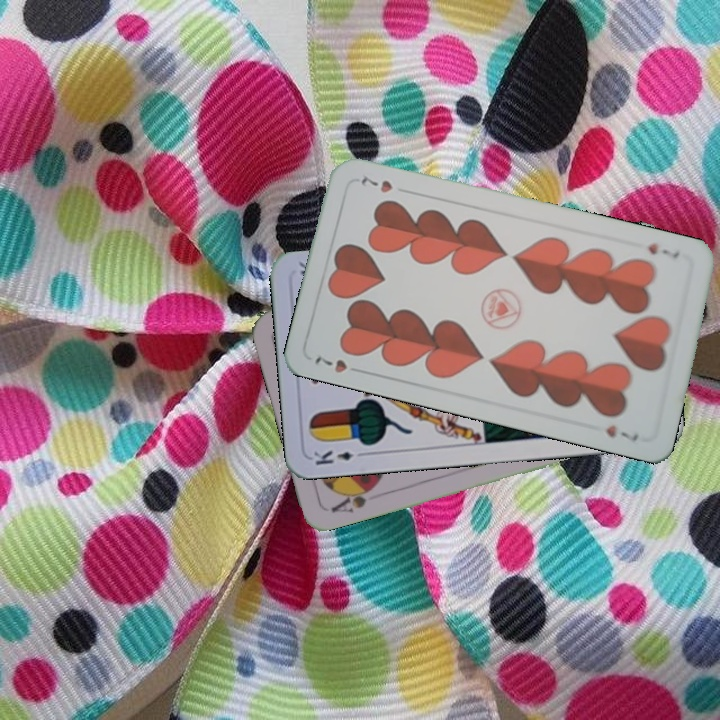EK: (309, 446, 369, 468)
H7: (310, 351, 366, 376), (643, 238, 683, 261)
SA: (327, 480, 380, 516)
